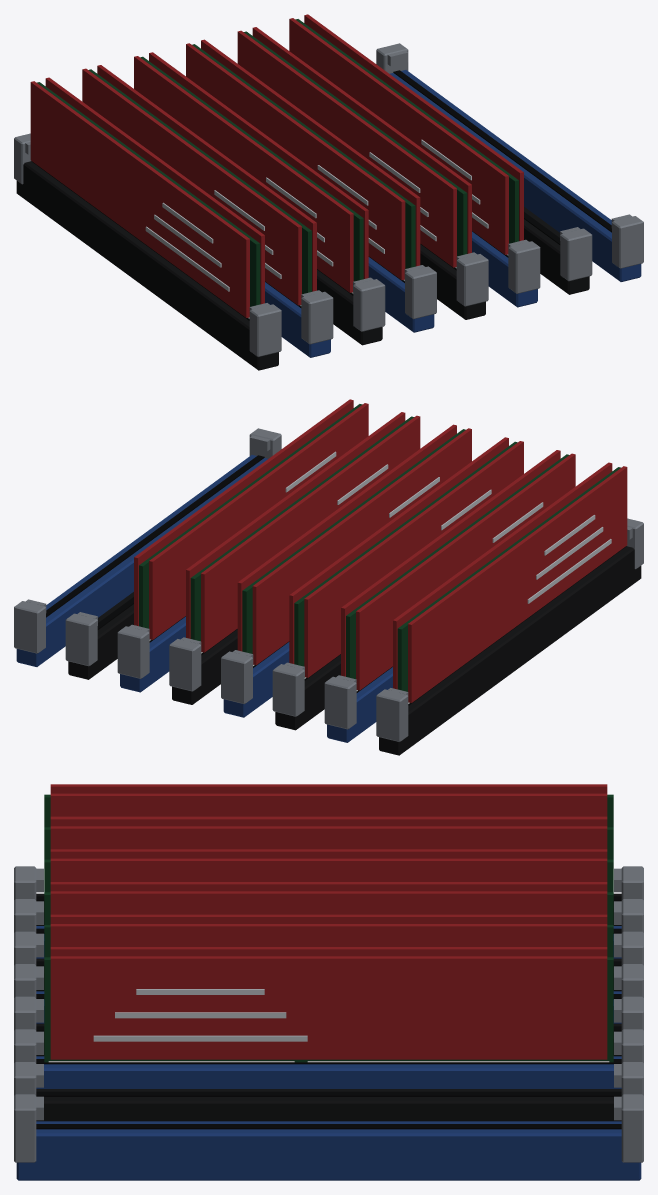
File: hwm_ram_ddr4_32gb.glb
The picture shows the model from 3 angles, top to bottom: view 1: azimuth 30°, elevation 25°; view 2: azimuth 150°, elevation 25°; view 3: azimuth 270°, elevation 25°; orthographic projection. The views are drawn at different scales.
Parts seen in each view (by area): view 1: Slots, Stick_0, Stick_3, Stick_1, Stick_4, Stick_5, Stick_2, Latch_4_1, Latch_5_1, Latch_0_1, Latch_1_1, Latch_2_1 (+5 smaller); view 2: Slots, Stick_0, Stick_3, Stick_1, Stick_4, Stick_5, Stick_2, Latch_4_0, Latch_5_0, Latch_0_0, Latch_1_0, Latch_2_0 (+5 smaller); view 3: Slots, Stick_5, Stick_1, Stick_0, Stick_2, Stick_3, Stick_4, Latch_7_0, Latch_7_1, Latch_4_0, Latch_4_1, Latch_2_0 (+11 smaller).
Part boxes in pixels (bbox=[...]): Slots: bbox=[16, 70, 641, 370]; Stick_0: bbox=[30, 77, 264, 318]; Stick_3: bbox=[186, 39, 420, 280]; Stick_1: bbox=[82, 65, 316, 305]; Stick_4: bbox=[237, 27, 471, 268]; Stick_5: bbox=[289, 14, 523, 255]; Stick_2: bbox=[134, 52, 368, 293]; Latch_4_1: bbox=[456, 252, 488, 306]; Latch_5_1: bbox=[508, 239, 540, 293]; Latch_0_1: bbox=[249, 303, 281, 356]; Latch_1_1: bbox=[301, 290, 333, 344]; Latch_2_1: bbox=[353, 277, 385, 331]; Slots: bbox=[16, 455, 641, 755]; Stick_0: bbox=[393, 462, 627, 703]; Stick_3: bbox=[237, 424, 471, 665]; Stick_1: bbox=[341, 450, 575, 690]; Stick_4: bbox=[186, 412, 420, 653]; Stick_5: bbox=[134, 399, 368, 640]; Stick_2: bbox=[289, 437, 523, 678]; Latch_4_0: bbox=[169, 637, 201, 691]; Latch_5_0: bbox=[117, 624, 149, 678]; Latch_0_0: bbox=[376, 688, 408, 741]; Latch_1_0: bbox=[324, 675, 356, 729]; Latch_2_0: bbox=[272, 662, 304, 716]; Slots: bbox=[16, 893, 641, 1180]; Stick_5: bbox=[44, 947, 613, 1062]; Stick_1: bbox=[44, 816, 613, 859]; Stick_0: bbox=[44, 784, 613, 827]; Stick_2: bbox=[44, 849, 613, 892]; Stick_3: bbox=[44, 882, 613, 924]; Stick_4: bbox=[44, 914, 613, 957]; Latch_7_0: bbox=[614, 1094, 643, 1162]; Latch_7_1: bbox=[14, 1094, 43, 1162]; Latch_4_0: bbox=[614, 996, 643, 1030]; Latch_4_1: bbox=[14, 996, 43, 1030]; Latch_2_0: bbox=[614, 931, 643, 965].
Size of the model in its own units: 0.1346 by 0.0404 by 0.1472.
